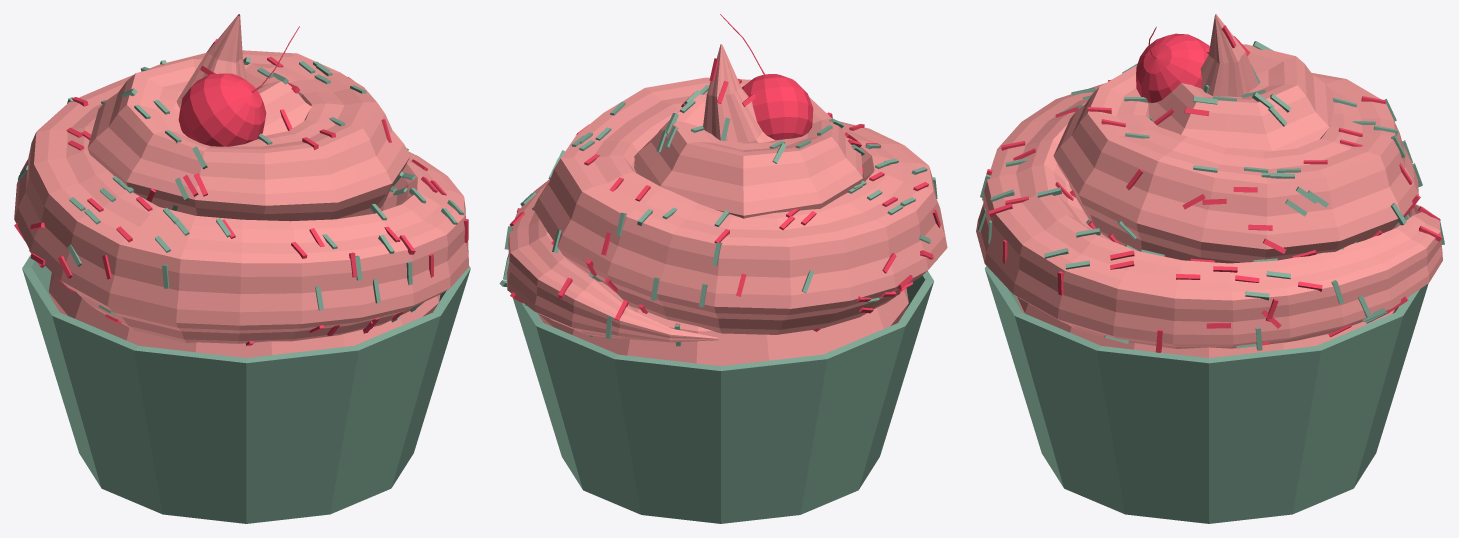
Rendered from cupcakerosa.fbx.
3 renders of one model, left to right at view 1: azimuth 30°, elevation 25°; view 2: azimuth 150°, elevation 25°; view 3: azimuth 270°, elevation 25°, orthographic. The views are drawn at different scales.
Visible parts, largest first — view 1: chantilly, potinho, bolinho, cereja; view 2: chantilly, potinho, bolinho, cereja; view 3: chantilly, potinho, cereja, bolinho.
Boxes of the visible parts, x1=… form: chantilly: x1=14, y1=14, x2=468, y2=343; potinho: x1=22, y1=254, x2=470, y2=523; bolinho: x1=48, y1=272, x2=440, y2=357; cereja: x1=178, y1=73, x2=266, y2=146; chantilly: x1=507, y1=44, x2=947, y2=342; potinho: x1=513, y1=271, x2=933, y2=523; bolinho: x1=538, y1=288, x2=908, y2=366; cereja: x1=742, y1=74, x2=813, y2=140; chantilly: x1=976, y1=14, x2=1442, y2=348; potinho: x1=984, y1=266, x2=1428, y2=523; cereja: x1=1136, y1=33, x2=1209, y2=102; bolinho: x1=1016, y1=296, x2=1396, y2=357.
Size of the model in its own units: 595 by 630 by 609.
